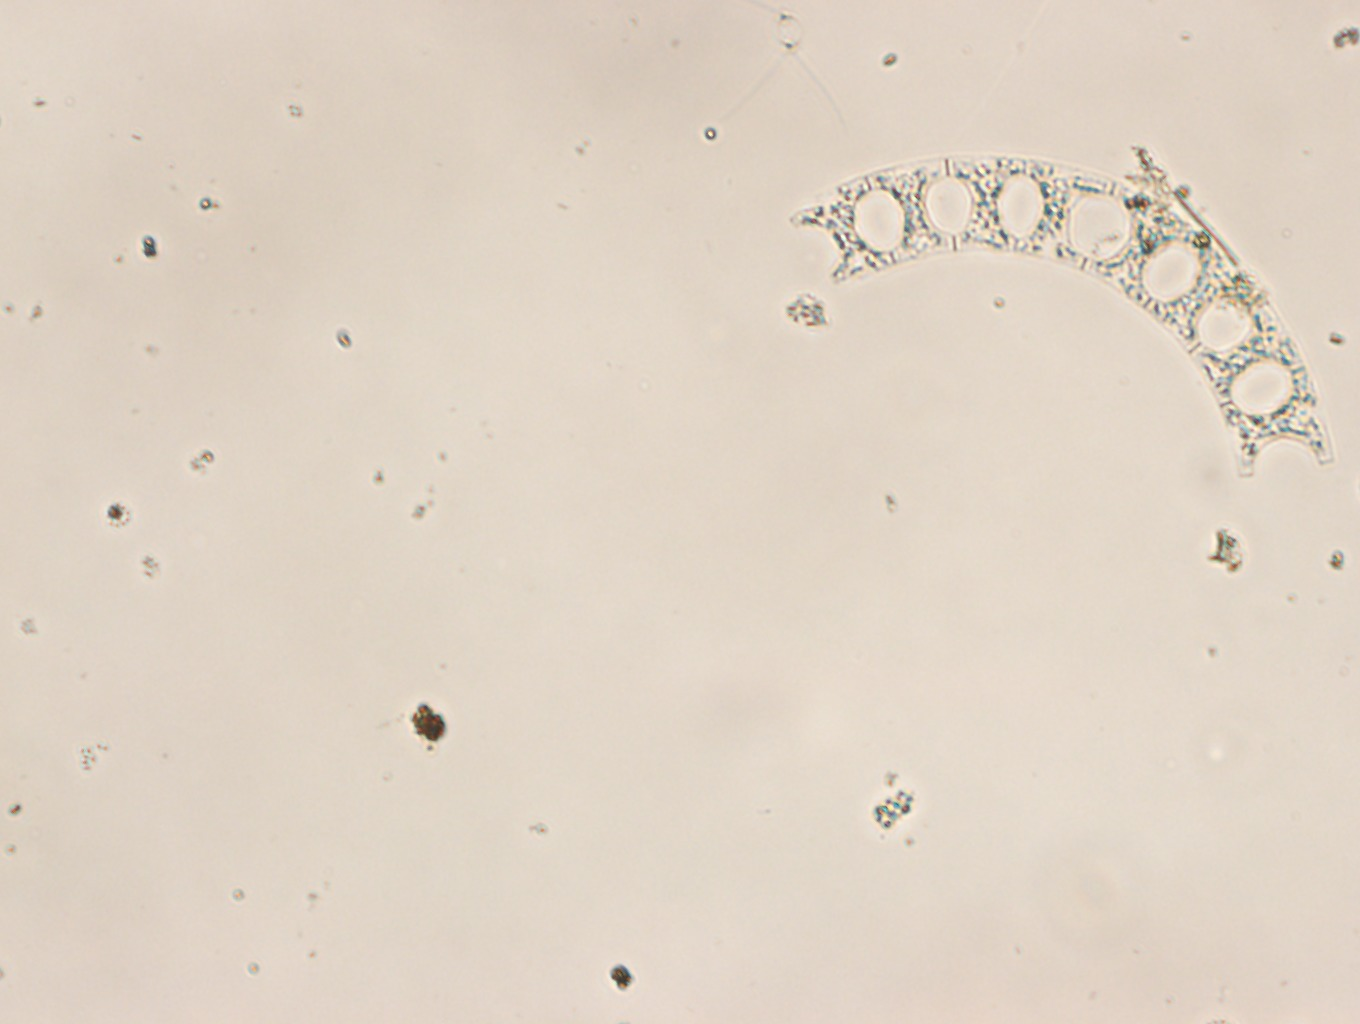eucampia: (784, 155, 1332, 480)
